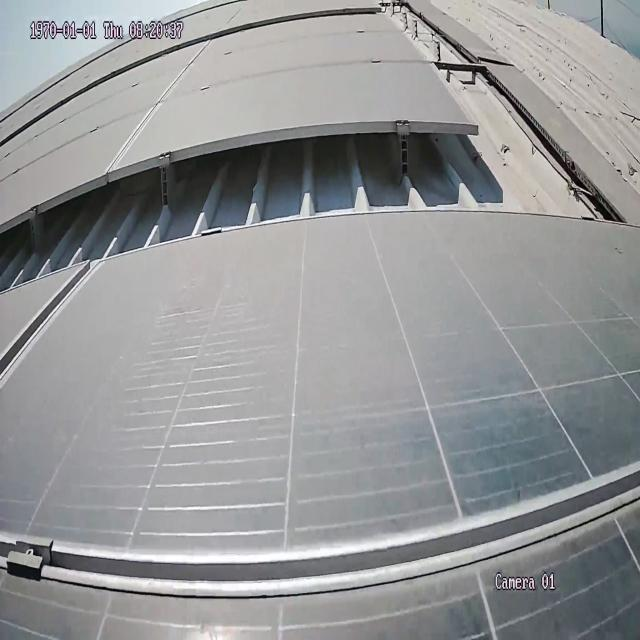interior panel: (0, 255, 640, 619), (106, 45, 205, 158)
outher panel: (0, 11, 640, 273)
